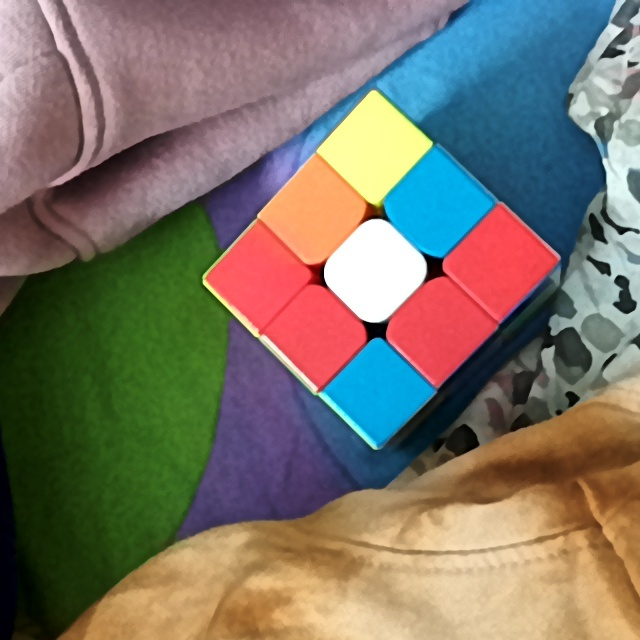tile: (406, 176, 465, 232), (410, 299, 467, 356), (475, 231, 529, 291), (348, 242, 402, 301), (288, 183, 342, 241), (346, 121, 403, 175), (351, 365, 406, 418), (231, 251, 284, 305), (292, 307, 342, 362)
